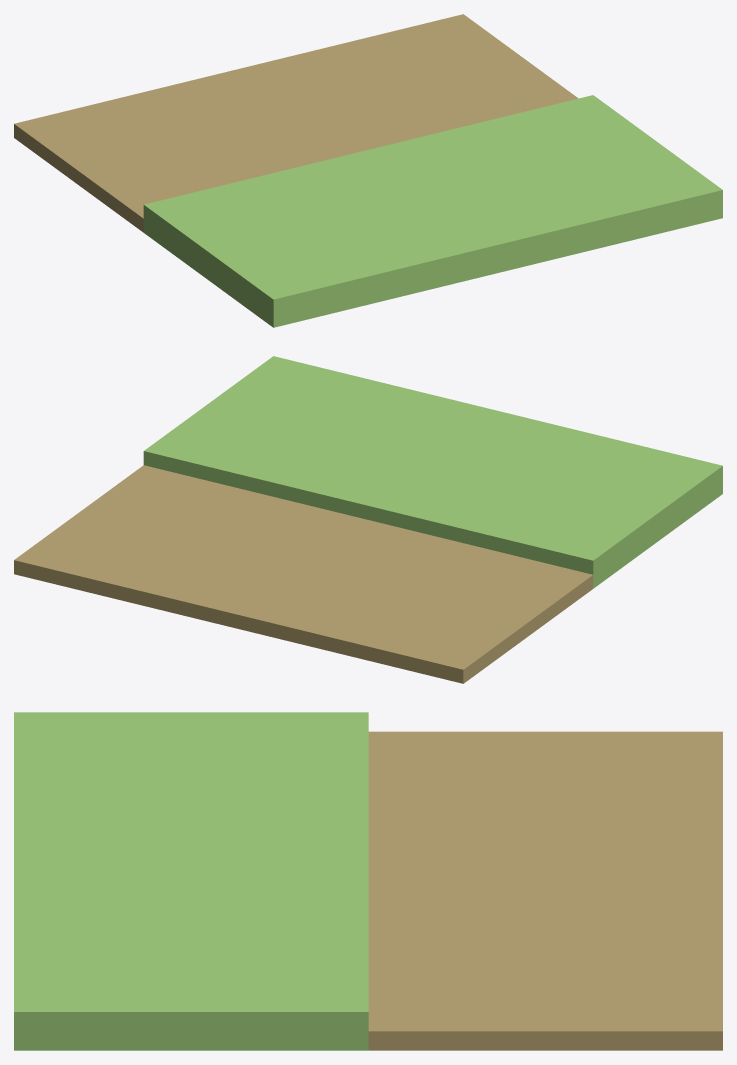
Rendered from Grass_Soil_Tile_3 1.fbx.
The picture shows the model from 3 angles, top to bottom: view 1: azimuth 30°, elevation 25°; view 2: azimuth 150°, elevation 25°; view 3: azimuth 270°, elevation 25°; orthographic projection. The views are drawn at different scales.
Parts seen in each view (by area): view 1: Base.001; view 2: Base.001; view 3: Base.001.
Boxes of the visible parts, x1=… form: Base.001: x1=14, y1=14, x2=722, y2=327; Base.001: x1=14, y1=356, x2=722, y2=683; Base.001: x1=14, y1=712, x2=722, y2=1050.
Size of the model in its own units: 1 by 1 by 0.06.
